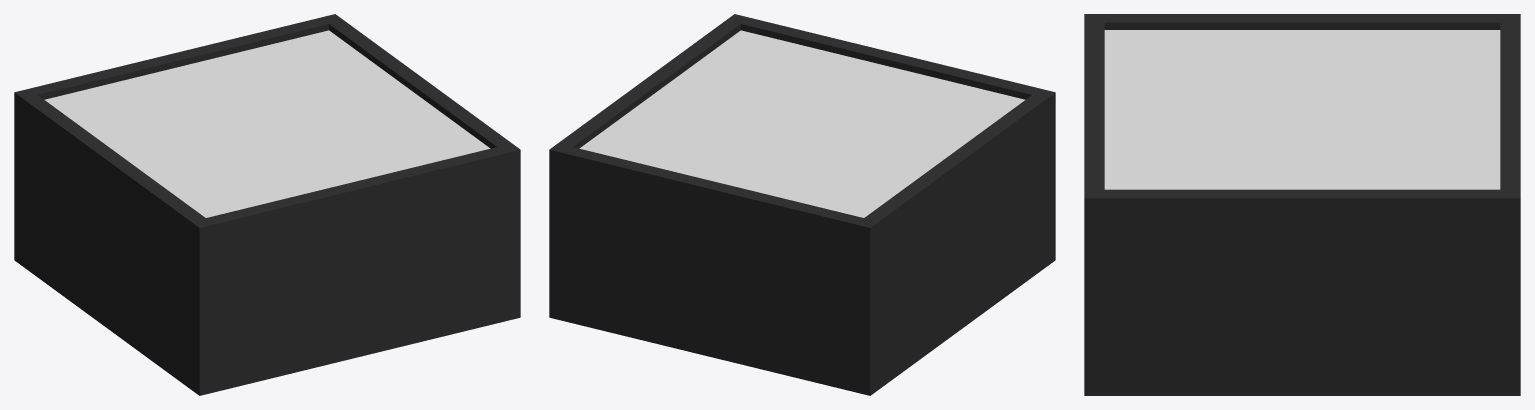
Rendered from Discopads.FBX.
3 views of the same model, side by side, from view 1: azimuth 30°, elevation 25°; view 2: azimuth 150°, elevation 25°; view 3: azimuth 270°, elevation 25° (orthographic). The views are drawn at different scales.
Visible parts, largest first — view 1: Padbase, Glass; view 2: Padbase, Glass; view 3: Padbase, Glass.
Boxes of the visible parts, x1=… form: Padbase: x1=14, y1=14, x2=520, y2=395; Glass: x1=44, y1=30, x2=490, y2=217; Padbase: x1=549, y1=14, x2=1055, y2=395; Glass: x1=579, y1=30, x2=1025, y2=217; Padbase: x1=1084, y1=14, x2=1520, y2=395; Glass: x1=1104, y1=30, x2=1500, y2=189.
Bounding box in the file's own units: 39.37 × 19.69 × 39.37.
Materials: 1 (1 with a texture image).
